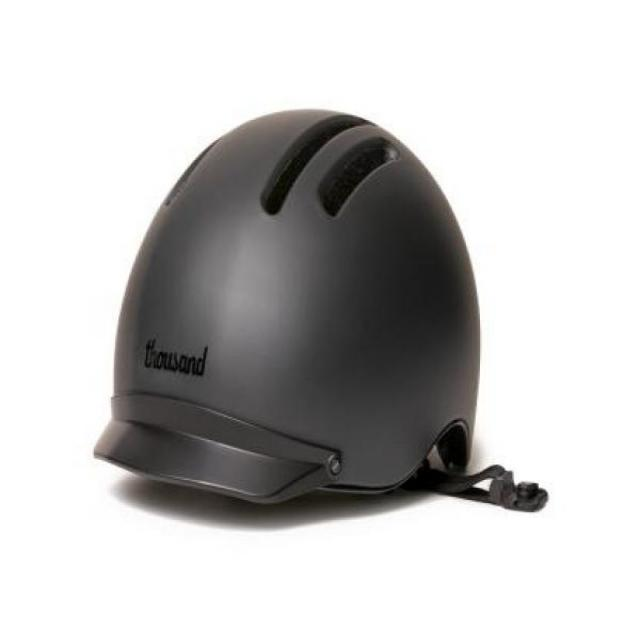Helmet: (100, 104, 502, 524)
